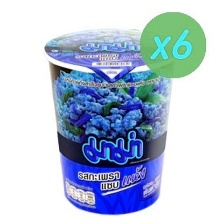paper_cup: (39, 20, 182, 217)
